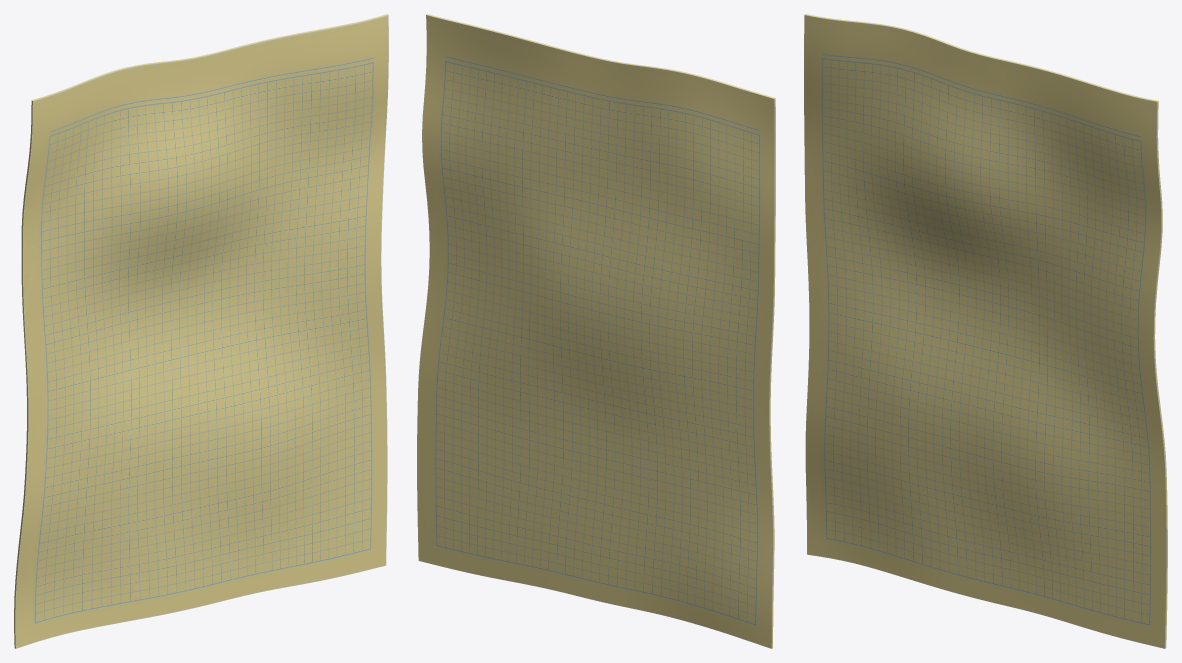
File: Shopping_list.fbx
3 renders of one model, left to right at view 1: azimuth 30°, elevation 25°; view 2: azimuth 150°, elevation 25°; view 3: azimuth 330°, elevation 25°, orthographic. The views are drawn at different scales.
Parts seen in each view (by area): view 1: Cube; view 2: Cube; view 3: Cube.
Part boxes in pixels (left/top/right/bottom): Cube: left=14, top=14, right=388, bottom=648; Cube: left=417, top=14, right=775, bottom=648; Cube: left=804, top=14, right=1167, bottom=648.
Bounding box in the file's own units: 145 × 212 × 8.77.
1 material, 1 textured.
